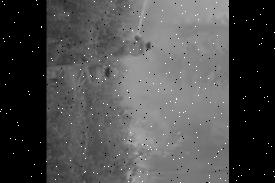fire: (117, 123, 179, 183)
